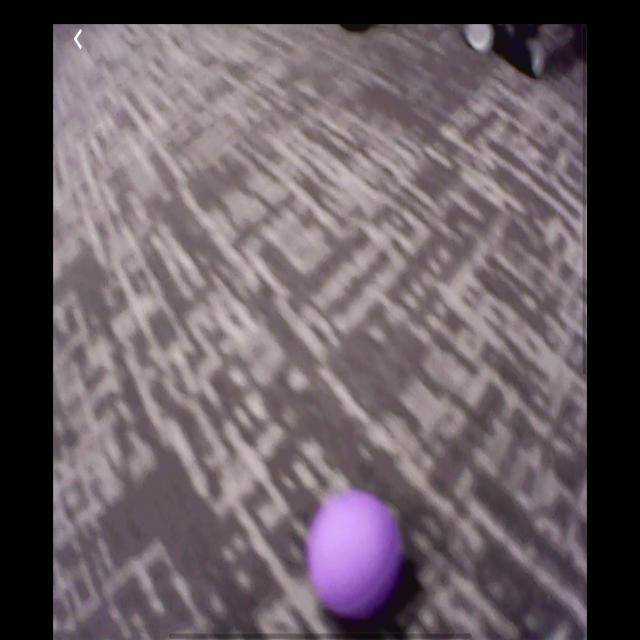ball: (312, 496, 400, 614)
